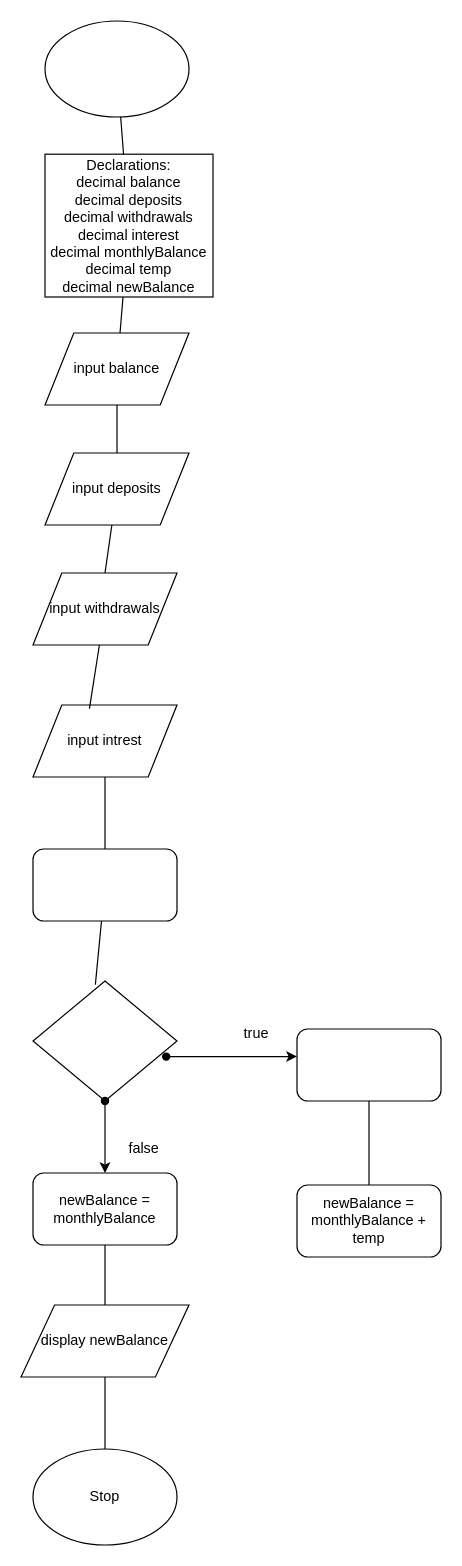
This 462x1566 diagram has some shape labels left out. Here are the shapes that lost their labels. From the top down, the centre of each, then its label:
point (116, 68): start
point (104, 884): monthlyBalance = balance + deposits - withdrawals
point (104, 1040): montlyBalance < 0
point (368, 1064): temp = monthlyBalance * interest
